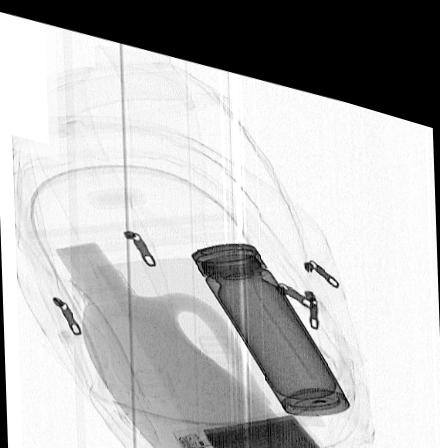Powerbank: (170, 394, 329, 448)
